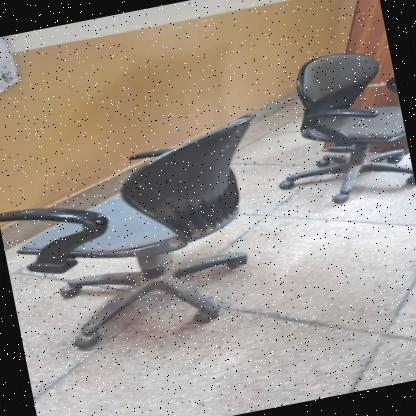chair: (0, 102, 296, 366), (250, 36, 416, 215)
